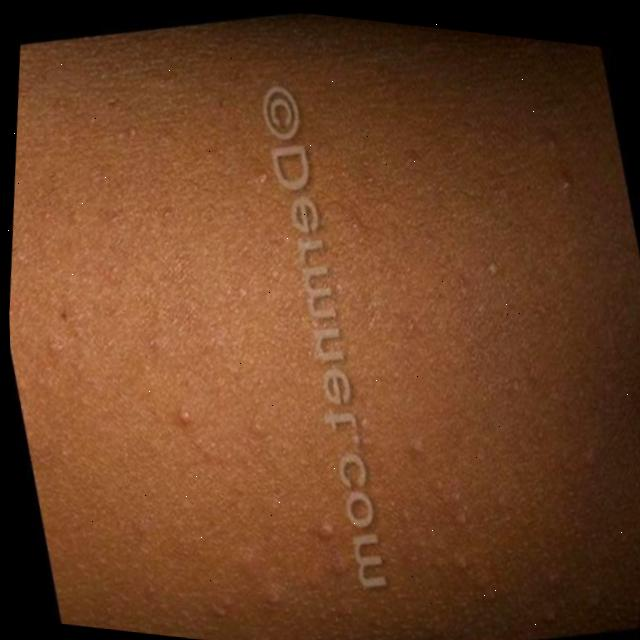Eczema: (6, 41, 636, 640)
